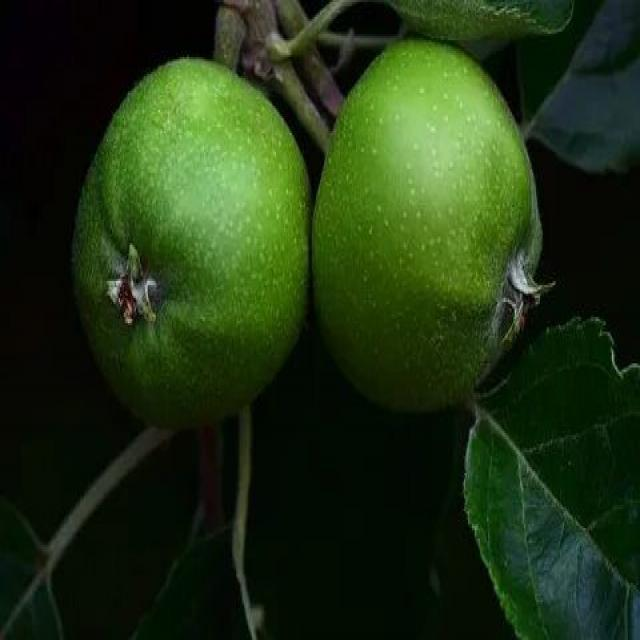Fresh Apple: (41, 60, 306, 450), (310, 45, 547, 420)
